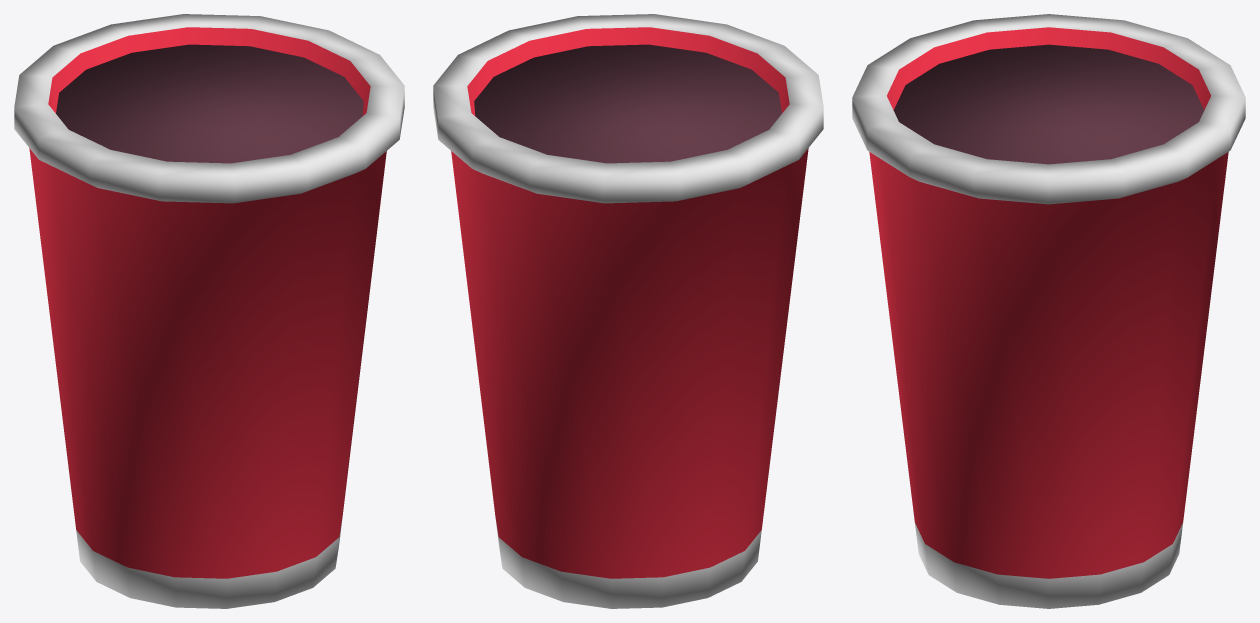
The model's file is hot_chocolate_cup.glb.
The picture shows the model from 3 angles, left to right: view 1: azimuth 30°, elevation 25°; view 2: azimuth 150°, elevation 25°; view 3: azimuth 270°, elevation 25°; orthographic projection.
Visible parts, largest first — view 1: Cup, CupFill; view 2: Cup, CupFill; view 3: Cup, CupFill.
Boxes of the visible parts, bbox=[...] form: Cup: bbox=[14, 14, 404, 608]; CupFill: bbox=[56, 44, 363, 163]; Cup: bbox=[433, 14, 823, 608]; CupFill: bbox=[474, 44, 781, 163]; Cup: bbox=[852, 14, 1245, 608]; CupFill: bbox=[893, 44, 1204, 164].
Size of the model in its own units: 0.267 by 0.3433 by 0.267.
